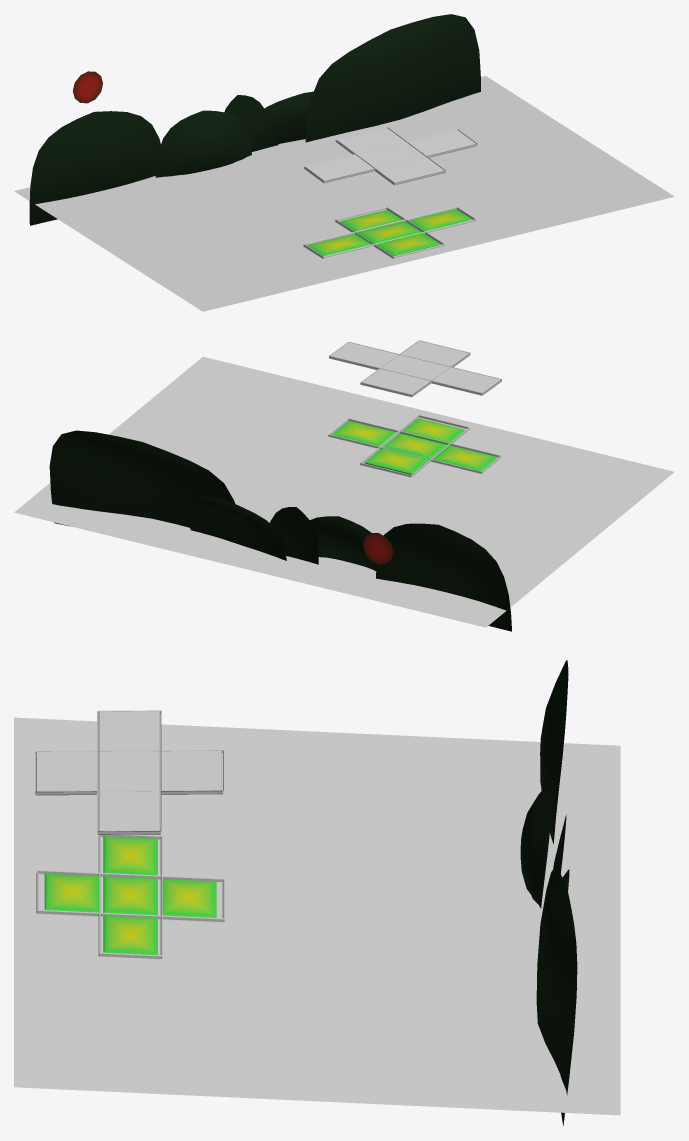
Rendered from environment kit.fbx.
3 views of the same model, one above another, from view 1: azimuth 30°, elevation 25°; view 2: azimuth 150°, elevation 25°; view 3: azimuth 270°, elevation 25° (orthographic). The views are drawn at different scales.
Parts seen in each view (by area): view 1: floor_plane_geo, backdrop_geo, ceiling_geo, floor_segments_geo, sun_geo; view 2: floor_plane_geo, backdrop_geo, ceiling_geo, floor_segments_geo, sun_geo; view 3: floor_plane_geo, ceiling_geo, backdrop_geo, floor_segments_geo.
Part boxes in pixels (<box>): floor_plane_geo: <box>14,76,674,311</box>; backdrop_geo: <box>29,14,480,225</box>; ceiling_geo: <box>304,127,477,185</box>; floor_segments_geo: <box>307,209,472,256</box>; sun_geo: <box>73,71,102,103</box>; floor_plane_geo: <box>14,356,674,627</box>; backdrop_geo: <box>49,430,511,631</box>; ceiling_geo: <box>329,340,501,397</box>; floor_segments_geo: <box>332,418,497,474</box>; sun_geo: <box>363,533,393,564</box>; floor_plane_geo: <box>14,717,620,1115</box>; ceiling_geo: <box>35,710,223,834</box>; backdrop_geo: <box>520,660,577,1125</box>; floor_segments_geo: <box>44,836,216,955</box>.
Size of what is drawn, in the model's own units: 102 by 22.95 by 76.5.
